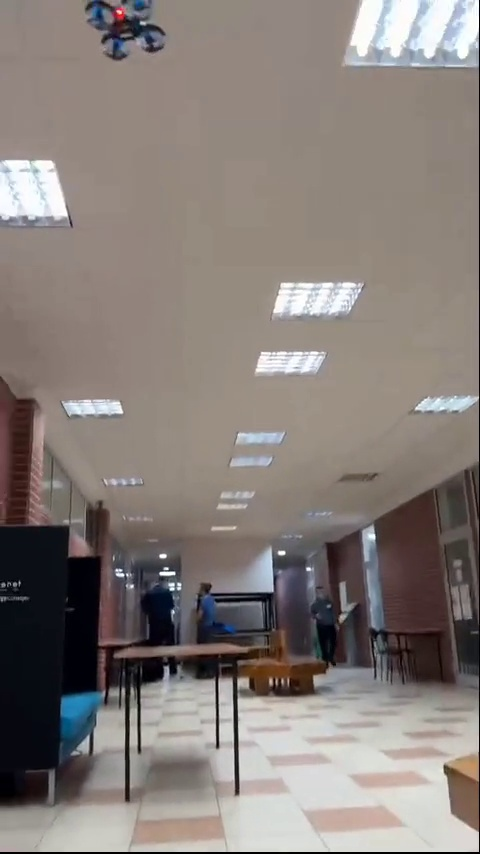drone: (90, 0, 164, 60)
no vest: (149, 571, 189, 682), (307, 586, 348, 665), (194, 575, 230, 644)
